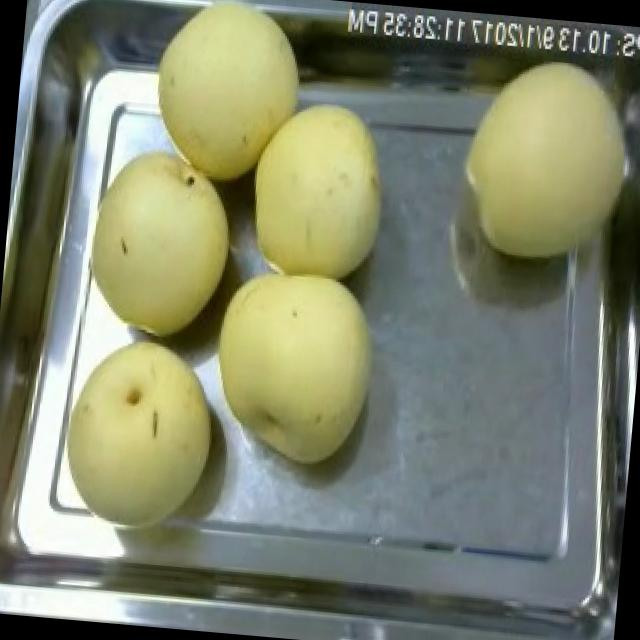Fruit: (439, 33, 640, 278), (187, 250, 391, 477), (50, 318, 236, 540), (76, 128, 252, 352), (229, 78, 406, 296), (135, 0, 319, 194)
